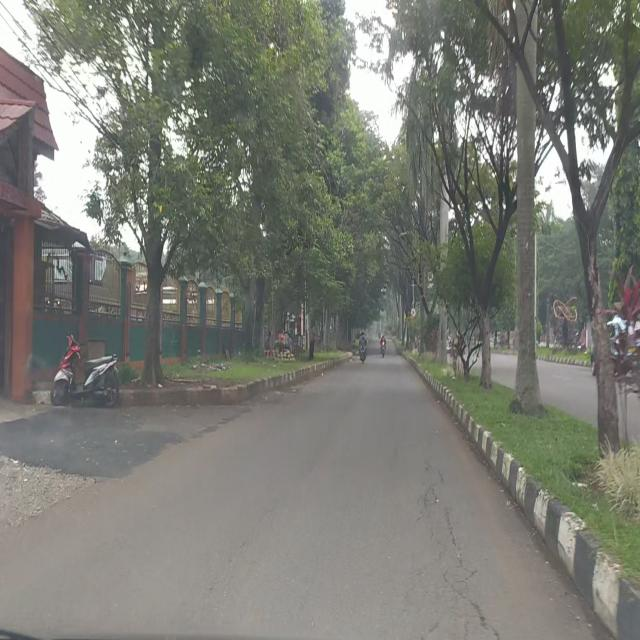Drain Hole: (416, 461, 497, 639)
